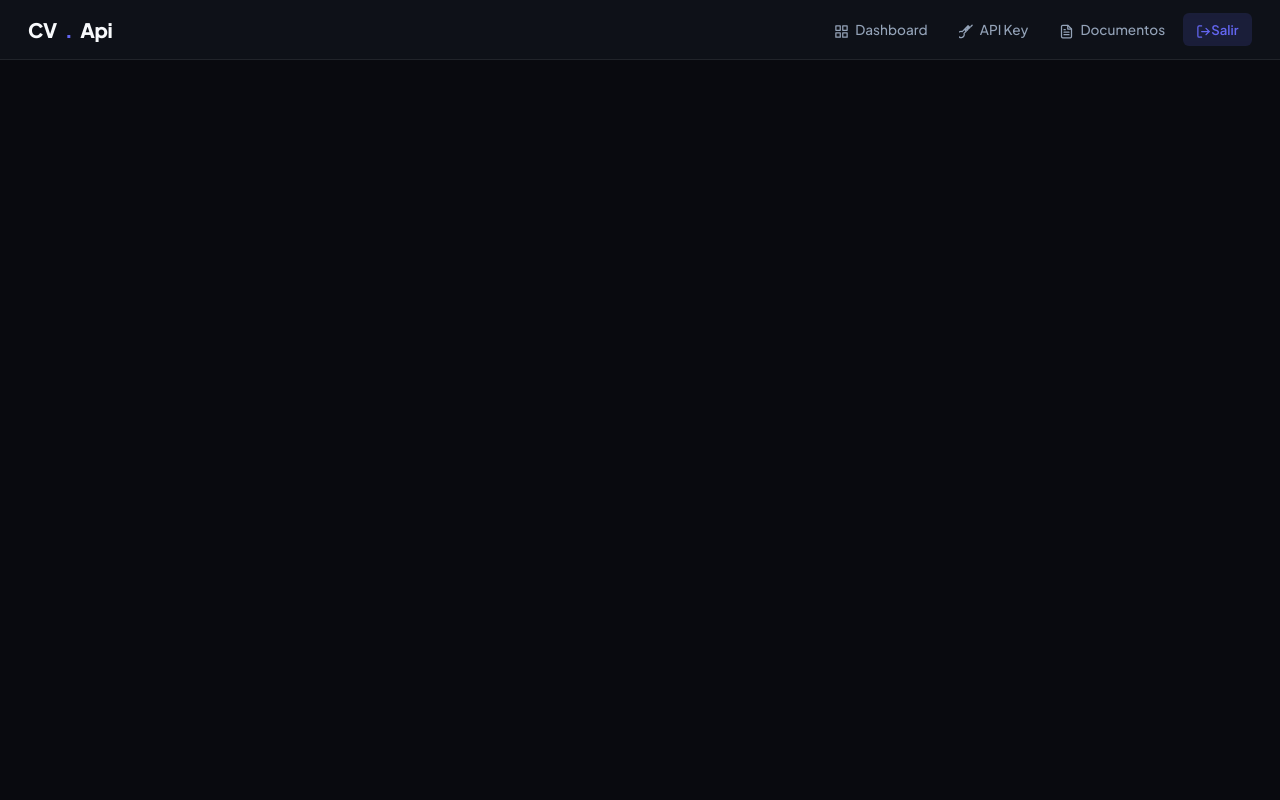
Test: Navbar Component › opens logout confirmation modal when logout button is clicked and cancels
Step 1. Click the button "Salir" → [1217, 30], box [1183,13,1252,46]
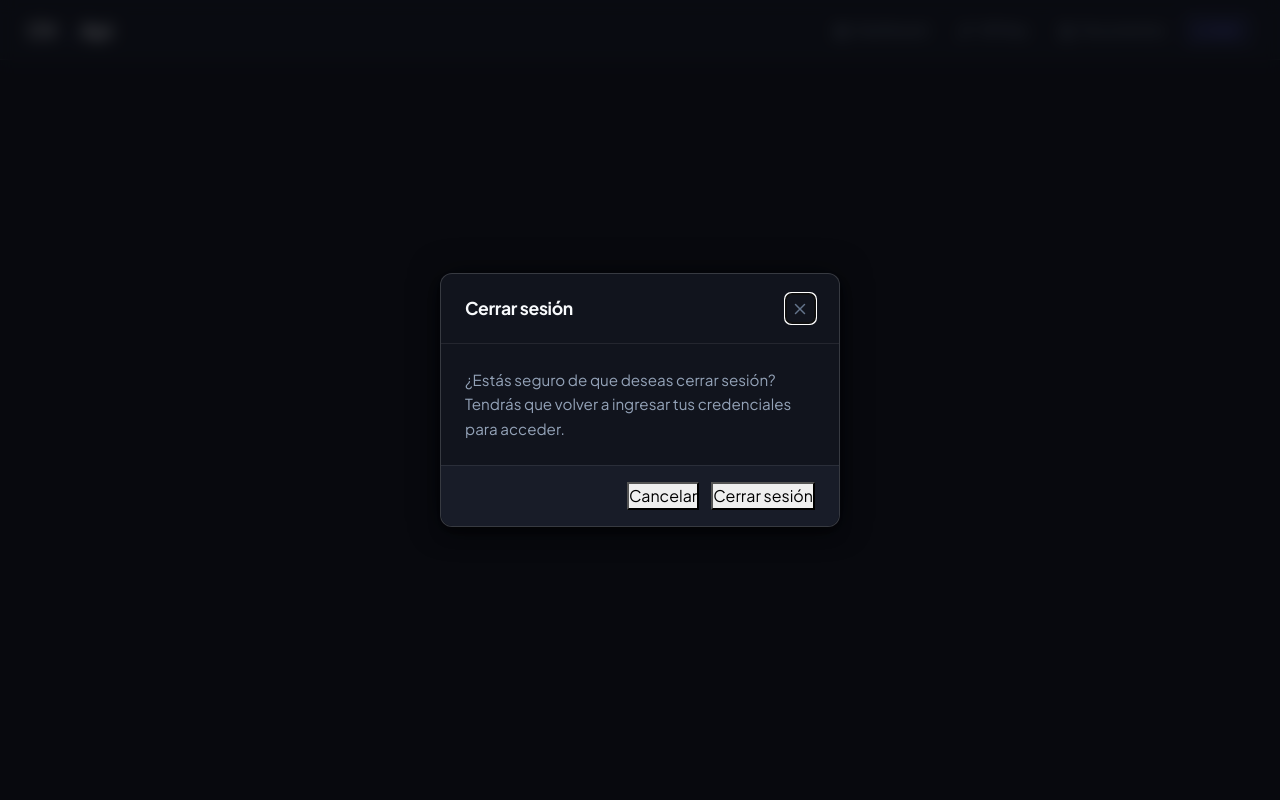
Result: the text "¿Estás seguro de que deseas cerrar sesión?" is shown at [465,370,791,438]
Step 2. Click the button "Cancelar" → [663, 496], box [627,482,699,510]
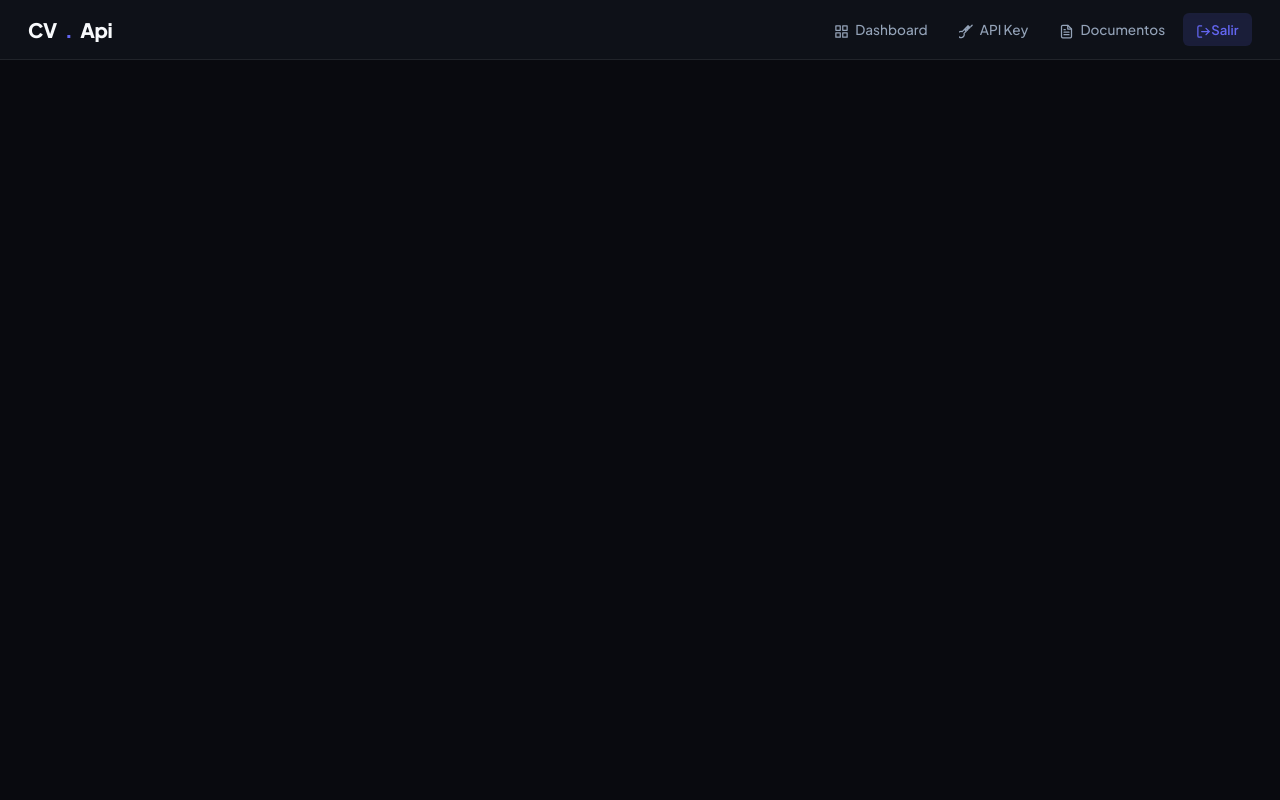
Result: the text "¿Estás seguro de que deseas cerrar sesión?" is gone
